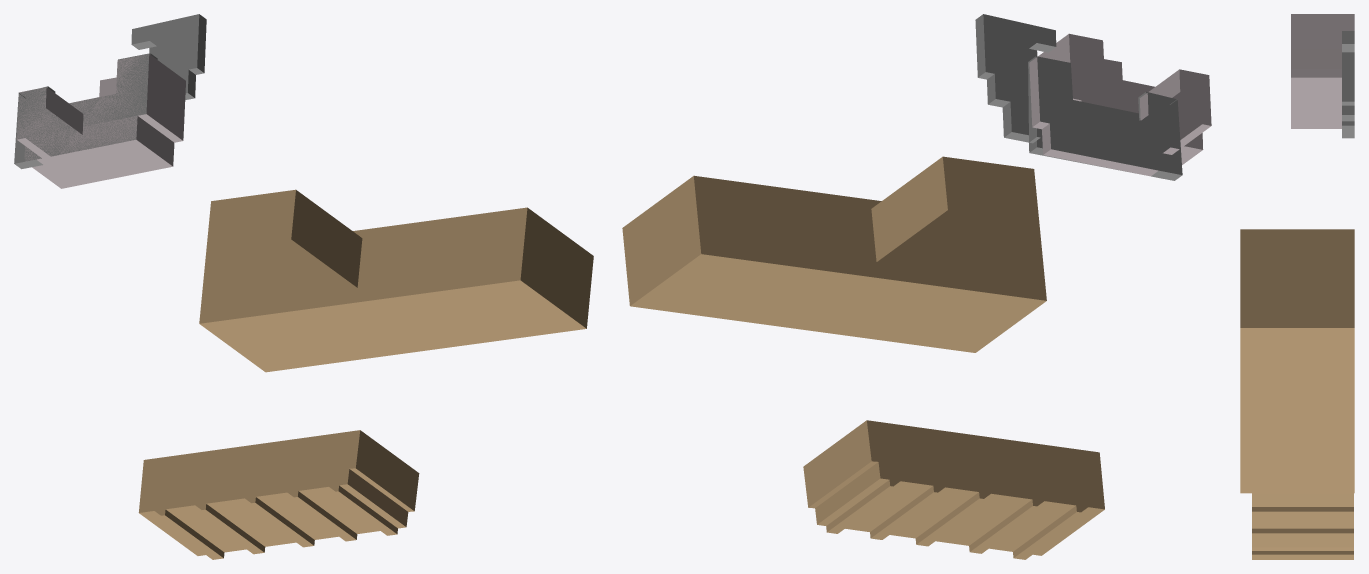
3 views of the same model, side by side, from view 1: azimuth 30°, elevation 25°; view 2: azimuth 150°, elevation 25°; view 3: azimuth 270°, elevation 25° (orthographic). The views are drawn at different scales.
Visible parts, largest first — view 1: 0_0_3_1_2_1_0; view 2: 0_0_3_1_2_1_0; view 3: 0_0_3_1_2_1_0.
Boxes of the visible parts, x1,y1,x2,y2 form: 0_0_3_1_2_1_0: (14, 14, 593, 559); 0_0_3_1_2_1_0: (622, 14, 1211, 559); 0_0_3_1_2_1_0: (1240, 14, 1354, 559).
Size of the model in its own units: 121 by 115 by 27.
